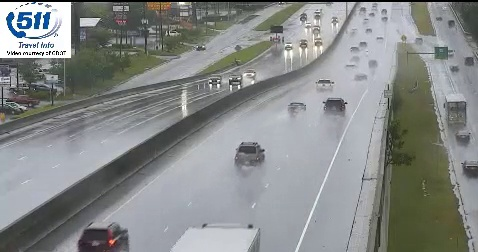car: (78, 224, 129, 252), (235, 142, 264, 166), (324, 97, 345, 115), (316, 78, 334, 91), (288, 101, 305, 114)
